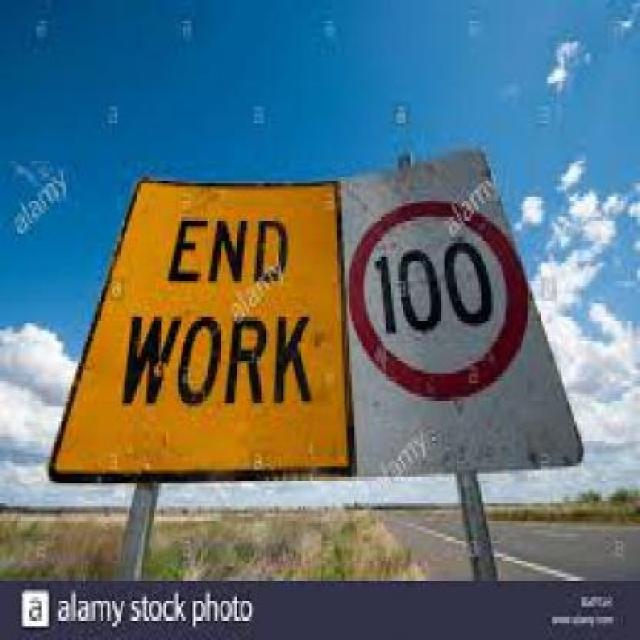forb_speed_over_100: (347, 199, 533, 407)
